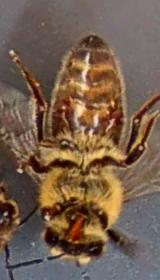varroa_mite: (104, 96, 128, 134), (46, 94, 73, 124)
